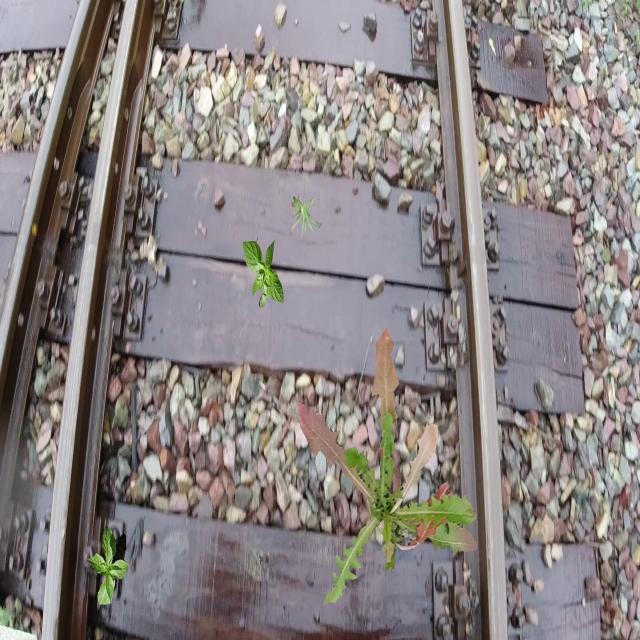Plant: (298, 327, 478, 605), (87, 525, 129, 605), (242, 239, 284, 310), (290, 195, 322, 241)
